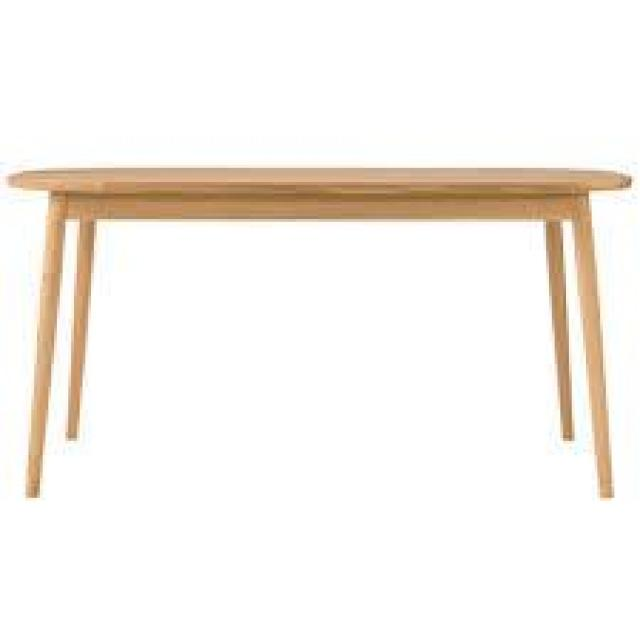table: (6, 100, 628, 526)
